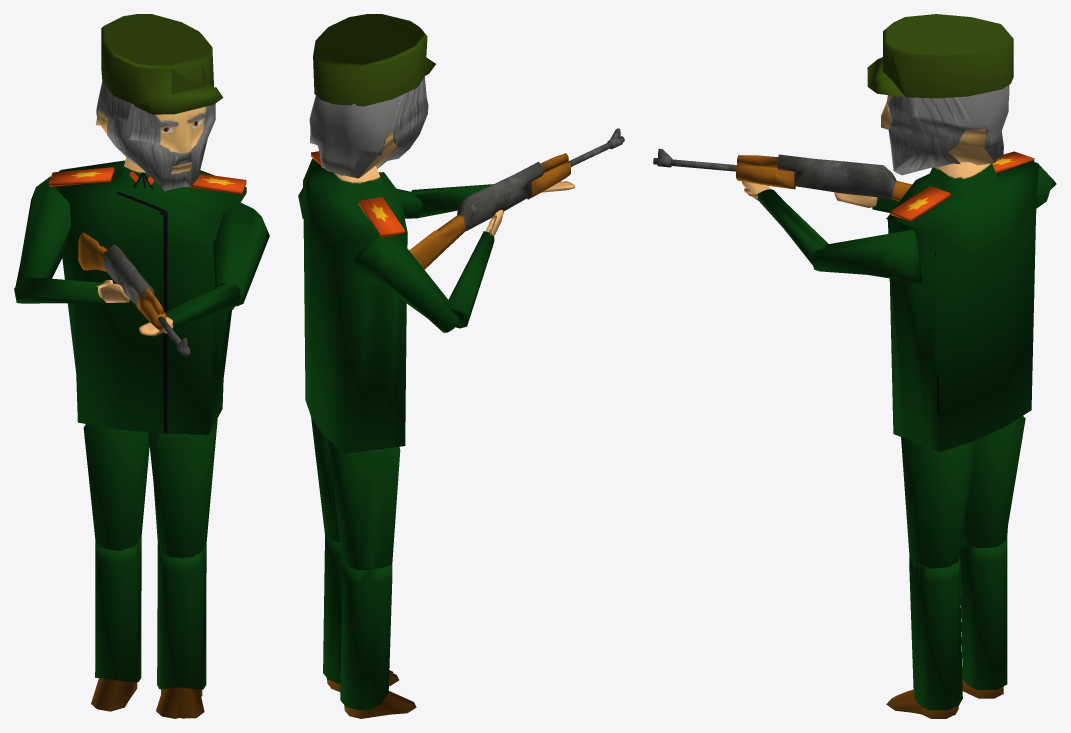
File: fidel.FBX
The picture shows the model from 3 angles, left to right: view 1: azimuth 30°, elevation 25°; view 2: azimuth 150°, elevation 25°; view 3: azimuth 270°, elevation 25°; orthographic projection.
Visible parts, largest first — view 1: body_buik, body_hoed001, L_been_onderbeen_R1, body_hoofd001, L_been_bovenbeen_R1, L_been_onderbeen_R004, L_been_bovenbeen_R004, L_been_onderbeen_R003, L_been_bovenbeen_R003, L_arm_bovenarm_R1, L_arm_bovenarm_R002, Cylinder_2 (+4 smaller); view 2: body_buik, body_hoed001, L_been_onderbeen_R1, body_hoofd001, L_been_bovenbeen_R1, Cylinder_2, L_arm_bovenarm_R1, L_arm_onderarm_R, L_been_onderbeen_R004, L_arm_onderarm_R001, L_been_onderbeen_R003, body_shoulderpads_2 (+3 smaller); view 3: body_buik, body_hoed001, body_hoofd001, L_been_onderbeen_R1, L_been_onderbeen_R003, L_been_bovenbeen_R004, Cylinder_2, L_been_bovenbeen_R1, L_arm_bovenarm_R002, L_been_onderbeen_R004, L_arm_onderarm_R001, L_been_bovenbeen_R003 (+2 smaller).
Boxes of the visible parts, bbox=[...] form: body_buik: bbox=[54, 157, 246, 434]; body_hoed001: bbox=[101, 14, 223, 114]; L_been_onderbeen_R1: bbox=[91, 536, 141, 711]; body_hoofd001: bbox=[96, 81, 215, 190]; L_been_bovenbeen_R1: bbox=[83, 424, 149, 550]; L_been_onderbeen_R004: bbox=[157, 543, 204, 718]; L_been_bovenbeen_R004: bbox=[148, 419, 217, 558]; L_been_onderbeen_R003: bbox=[156, 544, 206, 718]; L_been_bovenbeen_R003: bbox=[149, 426, 213, 557]; L_arm_bovenarm_R1: bbox=[15, 176, 71, 285]; L_arm_bovenarm_R002: bbox=[213, 202, 269, 306]; Cylinder_2: bbox=[78, 232, 190, 356]; body_buik: bbox=[303, 158, 407, 453]; body_hoed001: bbox=[313, 14, 435, 106]; L_been_onderbeen_R1: bbox=[340, 561, 416, 718]; body_hoofd001: bbox=[309, 77, 428, 178]; L_been_bovenbeen_R1: bbox=[328, 439, 400, 570]; Cylinder_2: bbox=[409, 128, 624, 269]; L_arm_bovenarm_R1: bbox=[349, 235, 458, 332]; L_arm_onderarm_R: bbox=[448, 209, 503, 328]; L_been_onderbeen_R004: bbox=[326, 538, 393, 691]; L_arm_onderarm_R001: bbox=[411, 181, 574, 218]; L_been_onderbeen_R003: bbox=[323, 534, 398, 689]; body_shoulderpads_2: bbox=[358, 197, 404, 237]; body_buik: bbox=[886, 160, 1038, 451]; body_hoed001: bbox=[867, 14, 1013, 98]; body_hoofd001: bbox=[881, 85, 1009, 175]; L_been_onderbeen_R1: bbox=[960, 536, 1007, 698]; L_been_onderbeen_R003: bbox=[895, 560, 959, 718]; L_been_bovenbeen_R004: bbox=[903, 438, 977, 568]; Cylinder_2: bbox=[653, 148, 911, 201]; L_been_bovenbeen_R1: bbox=[961, 416, 1025, 548]; L_arm_bovenarm_R002: bbox=[811, 229, 922, 283]; L_been_onderbeen_R004: bbox=[886, 556, 962, 715]; L_arm_onderarm_R001: bbox=[742, 181, 828, 265]; L_been_bovenbeen_R003: bbox=[901, 437, 970, 564].
Bounding box in the file's own units: 37.91 × 115 × 63.23.
